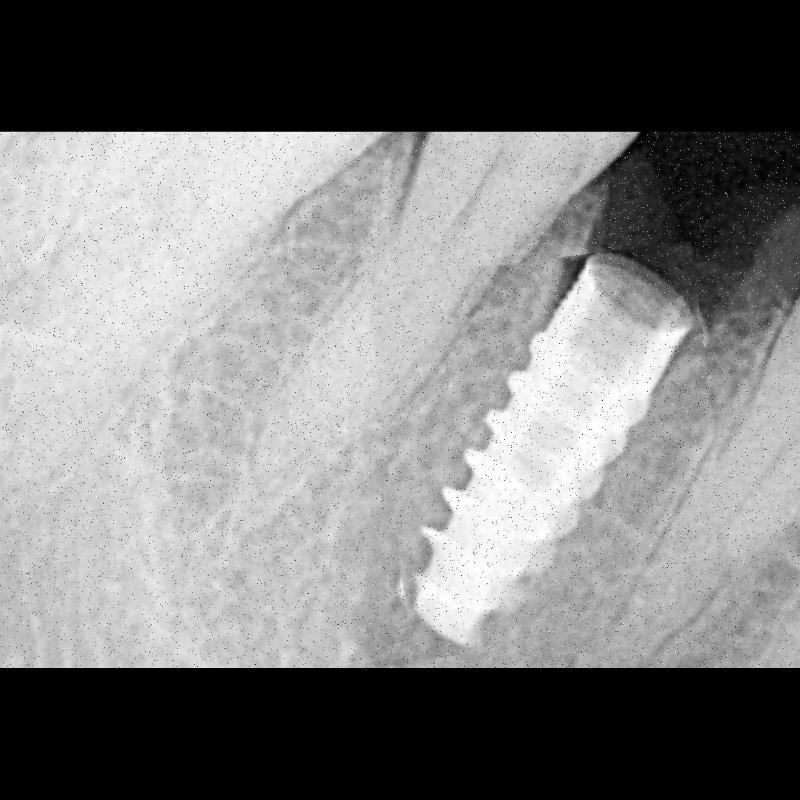NORIS: (377, 250, 727, 652)
